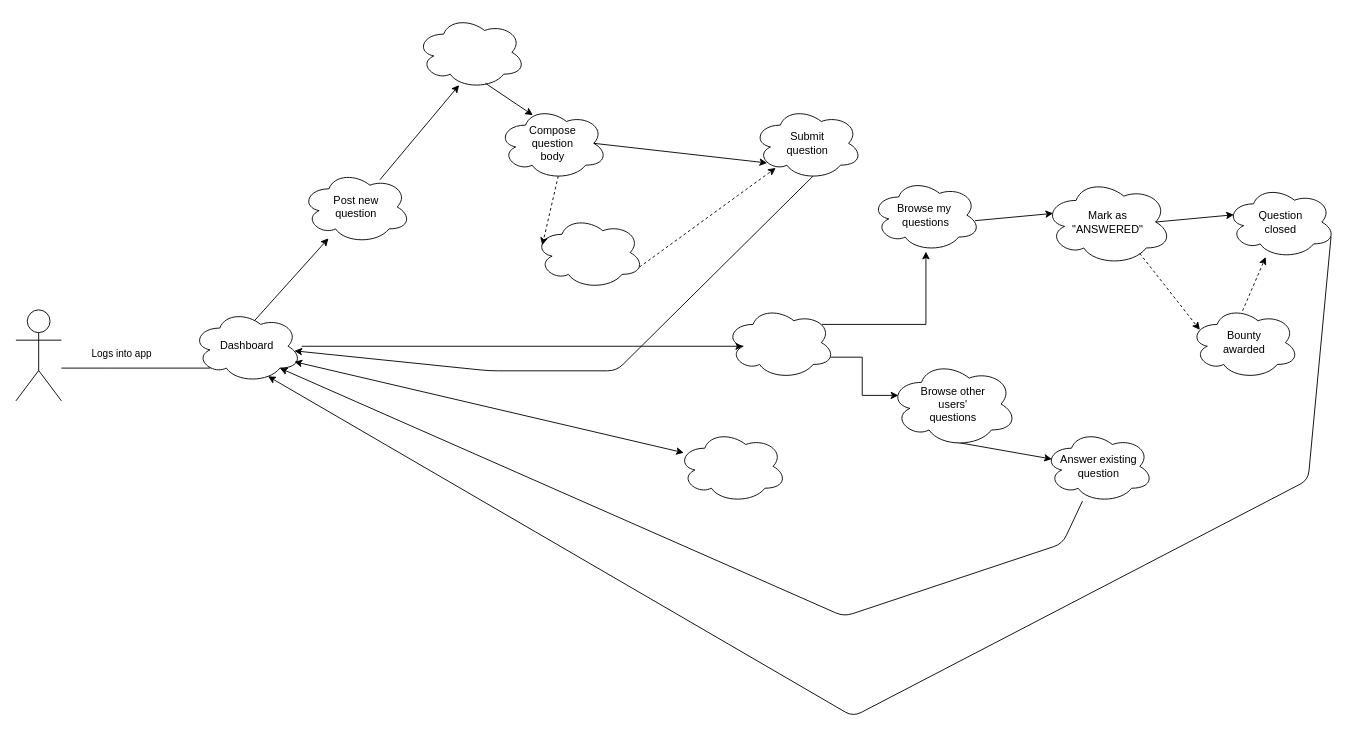
Image size: 1355x740. Some labels were removed from this diagram. The shapes that lost their labels are listed below. From the top down, each one's centre as x and y in pixels, then its label:
At (x=470, y=52): "Choose title".
At (x=589, y=252): "Place bounty on question".
At (x=38, y=355): "User".
At (x=780, y=342): "Browse existing questions".
At (x=732, y=466): "Browse my badges".
